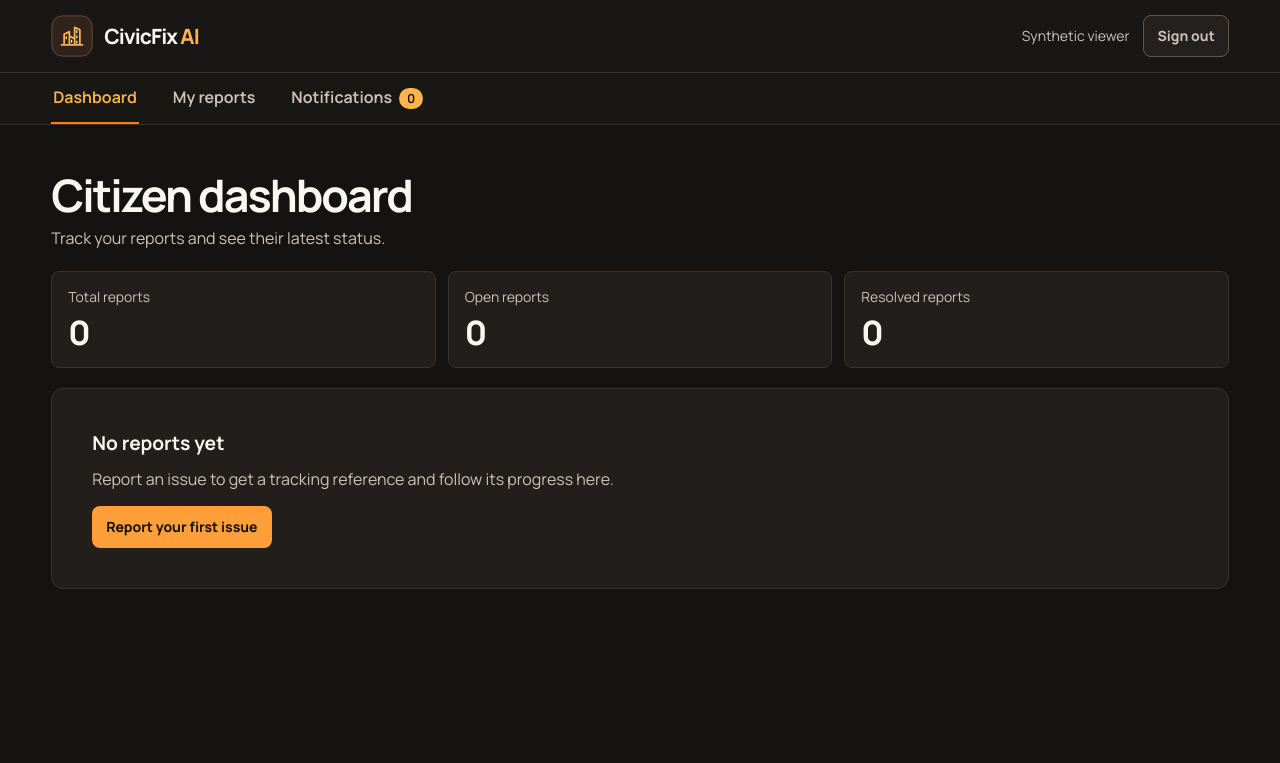
Test case: citizen experience › links the dashboard empty state to the working report form
Step 1. Click the link "Report your first issue" → (182,527), box [92,506,272,548]
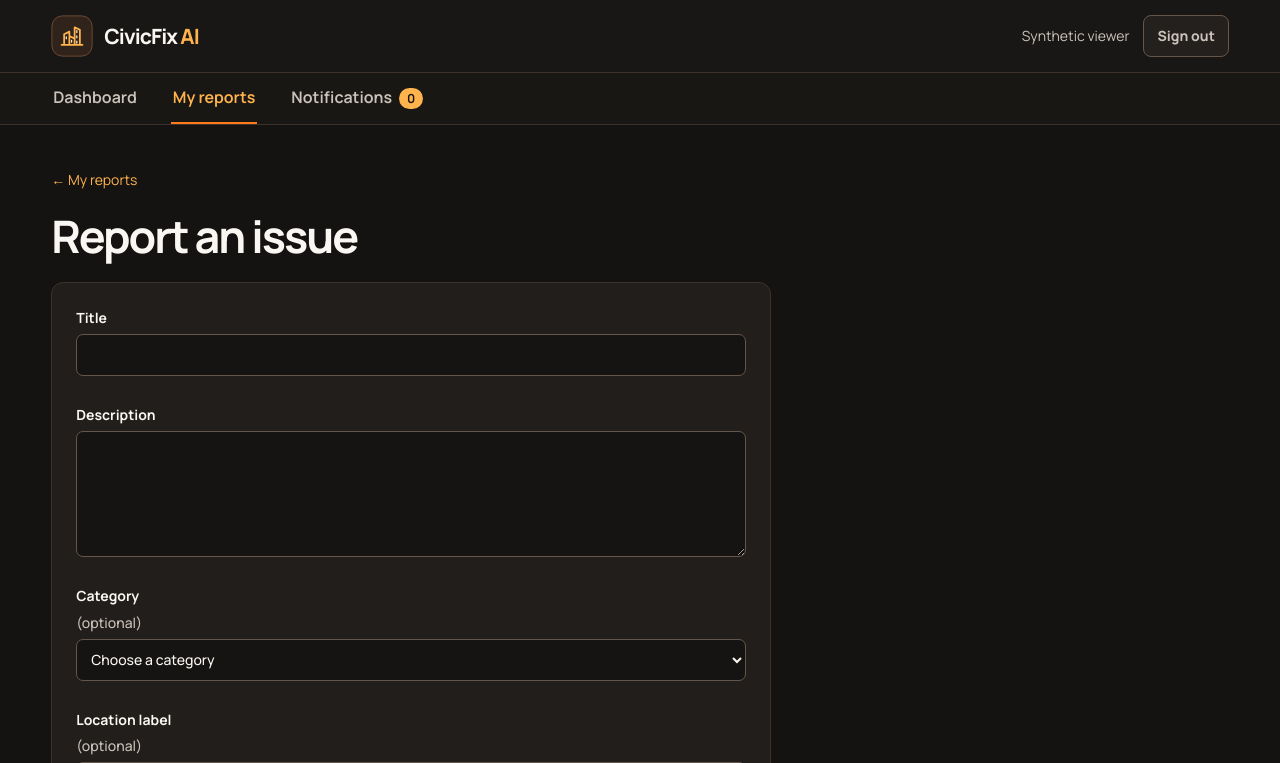
Expected: the heading "Report an issue" is shown, [51,206,357,266]
